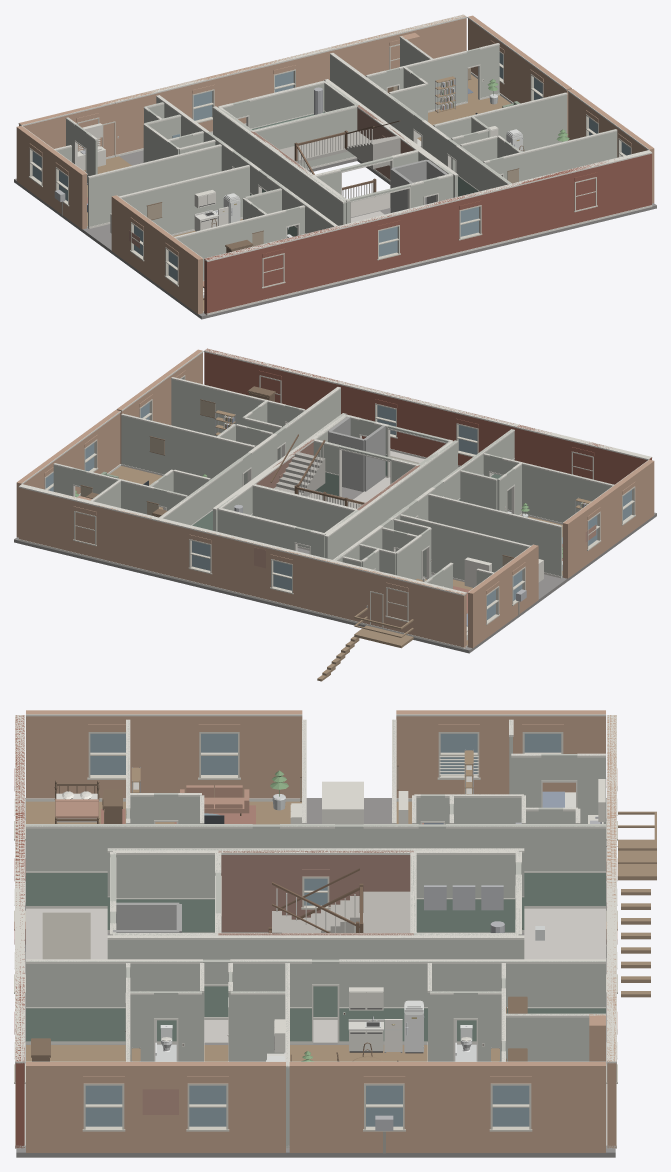
The model's file is floor_04.glb.
3 views of the same model, one above another, from view 1: azimuth 30°, elevation 25°; view 2: azimuth 150°, elevation 25°; view 3: azimuth 270°, elevation 25° (orthographic). The views are drawn at different scales.
Parts seen in each view (by area): view 1: F04_walls-col, F04_walls_cbrick-col, F04_walls_fbrick-col, F04_trim, F04_stone_trim-col, F04_slabs-col, F04_glazing-col, F04_stairs, F04_floors_floor_oak, F04_walls_conc-col, F04_walls_brick-col, F04_stairs_bal (+6 smaller); view 2: F04_walls-col, F04_walls_cbrick-col, F04_trim, F04_walls_fbrick-col, F04_stone_trim-col, F04_glazing-col, F04_walls_conc-col, F04_slabs-col, F04_stairs, F04_furniture_timber-col, F04_walls_brick-col, F04_furniture_art-col (+5 smaller); view 3: F04_walls-col, F04_walls_cbrick-col, F04_trim, F04_wainscot, F04_glazing-col, F04_walls_brick-col, F04_floors_terrazzo, F04_stone_trim-col, F04_floors_floor_oak, F04_slabs-col, F04_stairs, F04_furniture_timber-col (+13 smaller).
Part boxes in pixels (x1,y1,x2,y2): F04_walls-col: (56,36,617,280); F04_walls_cbrick-col: (16,15,654,314); F04_walls_fbrick-col: (204,153,651,314); F04_trim: (18,14,652,315); F04_stone_trim-col: (28,44,631,288); F04_slabs-col: (14,150,656,319); F04_glazing-col: (32,52,630,281); F04_stairs: (280,131,400,217); F04_floors_floor_oak: (83,74,510,312); F04_walls_conc-col: (390,159,447,212); F04_walls_brick-col: (251,105,414,179); F04_stairs_bal: (298,129,372,198); F04_walls-col: (53,378,613,588); F04_walls_cbrick-col: (16,349,654,648); F04_trim: (18,348,652,649); F04_walls_fbrick-col: (204,348,651,484); F04_stone_trim-col: (44,375,635,629); F04_glazing-col: (45,402,631,619); F04_walls_conc-col: (328,416,385,491); F04_slabs-col: (14,451,656,653); F04_stairs: (274,452,362,508); F04_furniture_timber-col: (317,608,413,681); F04_walls_brick-col: (256,439,419,510); F04_furniture_art-col: (80,400,513,566); F04_walls-col: (26,719,605,1148); F04_walls_cbrick-col: (26,710,617,1152); F04_trim: (15,714,616,1148); F04_wainscot: (26,873,605,1041); F04_glazing-col: (85,733,561,1126); F04_walls_brick-col: (218,850,413,935); F04_floors_terrazzo: (26,908,605,1042); F04_stone_trim-col: (14,732,617,1131); F04_floors_floor_oak: (26,801,427,1061); F04_slabs-col: (16,798,615,1157); F04_stairs: (272,891,410,933); F04_furniture_timber-col: (618,811,656,997).
Size of what is drawn, in the model's own units: 28.6 by 7.42 by 21.4.
